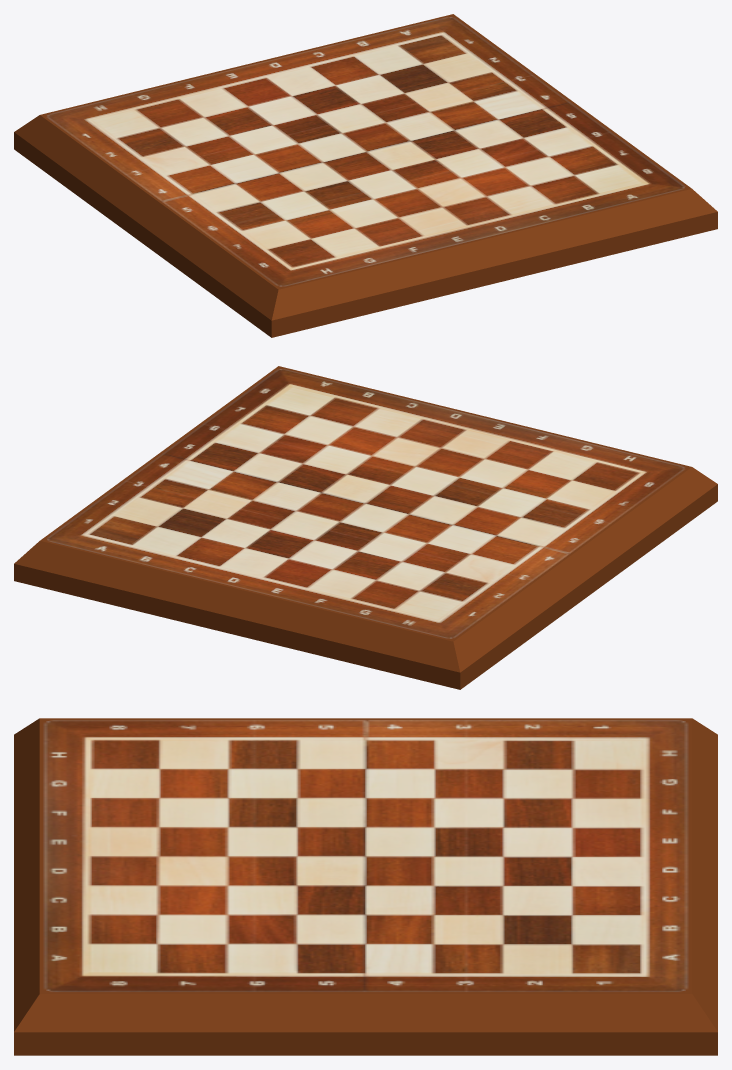
Rendered from checker_board.gltf.
3 renders of one model, top to bottom at view 1: azimuth 30°, elevation 25°; view 2: azimuth 150°, elevation 25°; view 3: azimuth 270°, elevation 25°, orthographic. The views are drawn at different scales.
Visible parts, largest first — view 1: Cube; view 2: Cube; view 3: Cube.
Boxes of the visible parts, left/top/right/bottom form: Cube: left=14, top=14, right=717, bottom=337; Cube: left=14, top=366, right=717, bottom=689; Cube: left=14, top=718, right=717, bottom=1055.
Size of the model in its own units: 25 by 2 by 25.
1 material, 1 textured.
